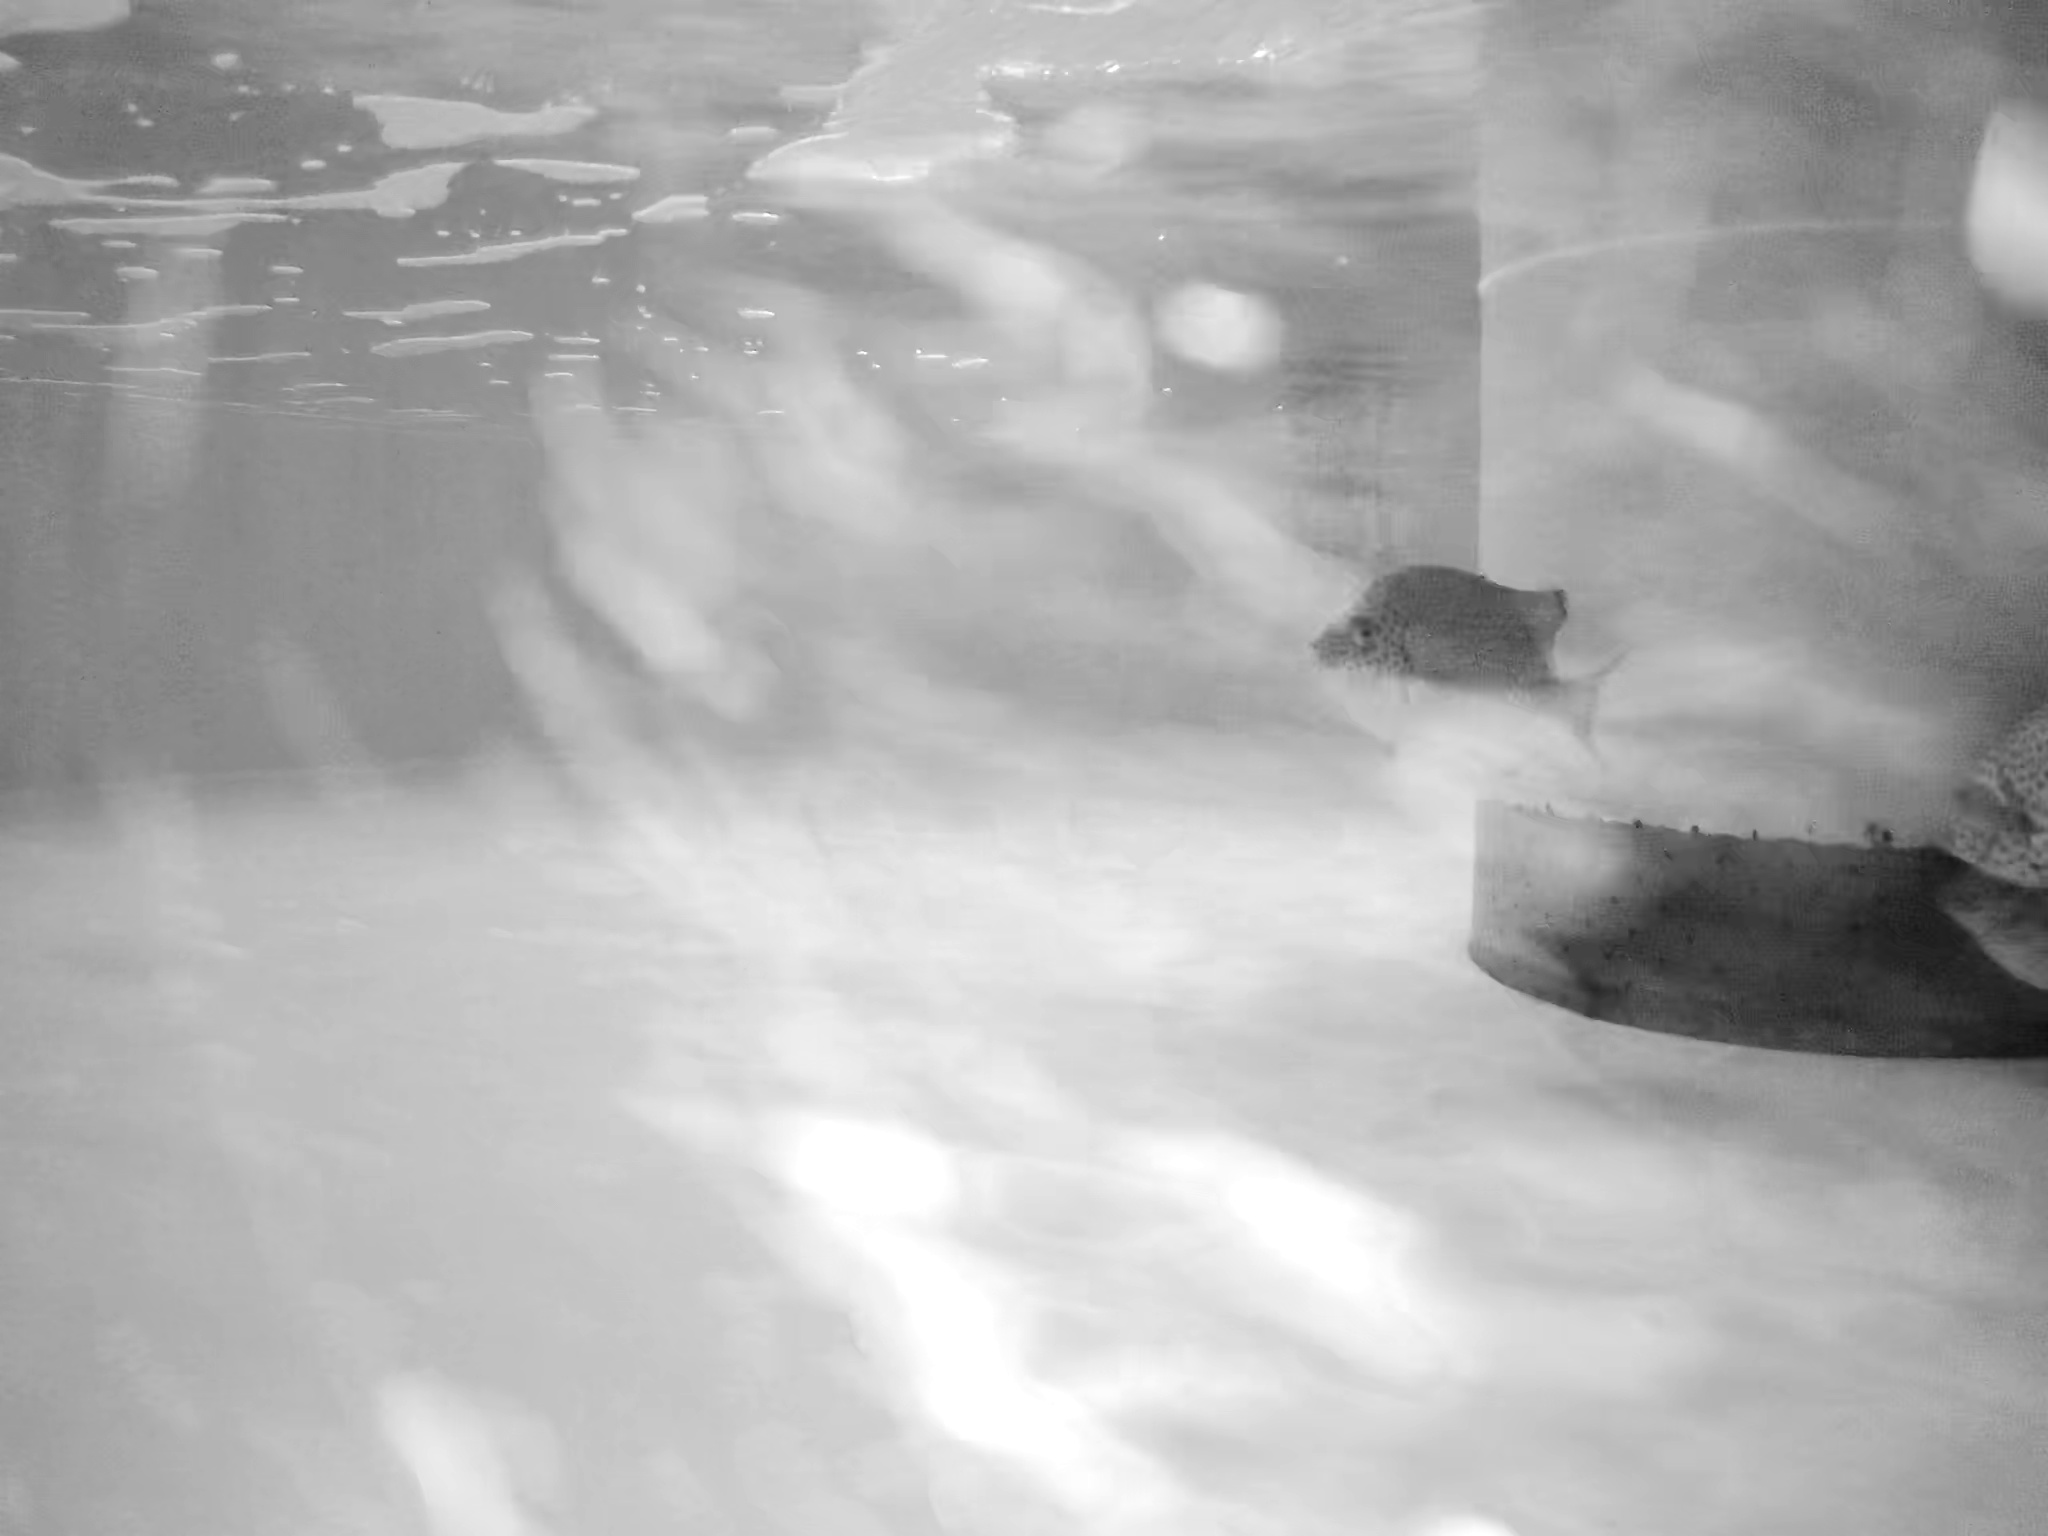fish: (1306, 568, 1634, 781), (1937, 703, 2048, 878), (1954, 879, 2048, 999)
